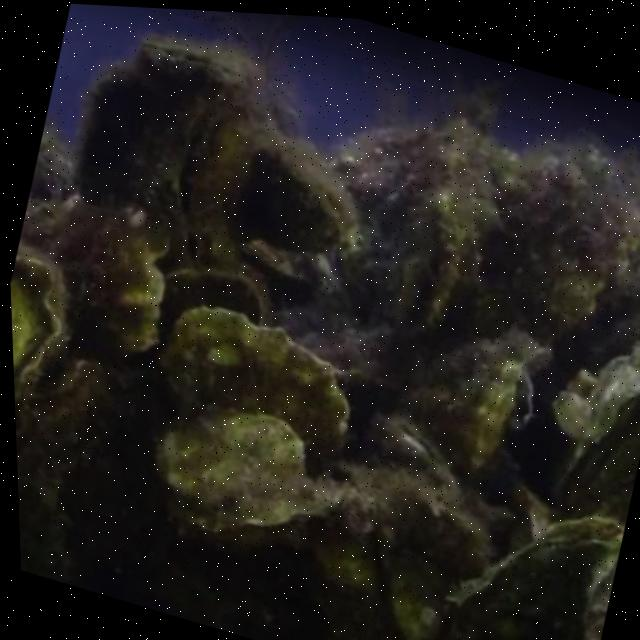Oyster-Closed: (326, 130, 462, 341), (154, 82, 279, 274), (440, 515, 617, 640), (415, 343, 543, 463), (237, 141, 359, 254), (140, 21, 271, 89), (10, 245, 65, 404)
Oyster-Indeterminate: (165, 309, 351, 450), (18, 204, 165, 361), (158, 411, 313, 534)
